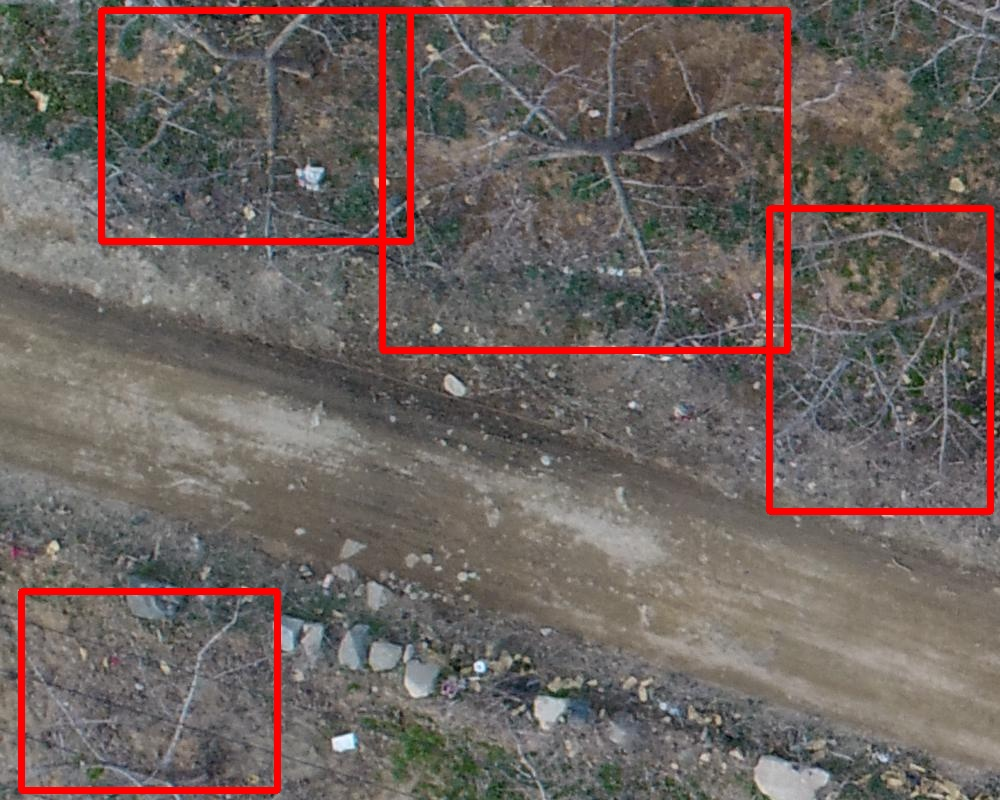apple: (382, 10, 787, 350), (101, 10, 410, 241), (769, 208, 990, 511), (21, 591, 277, 790)
